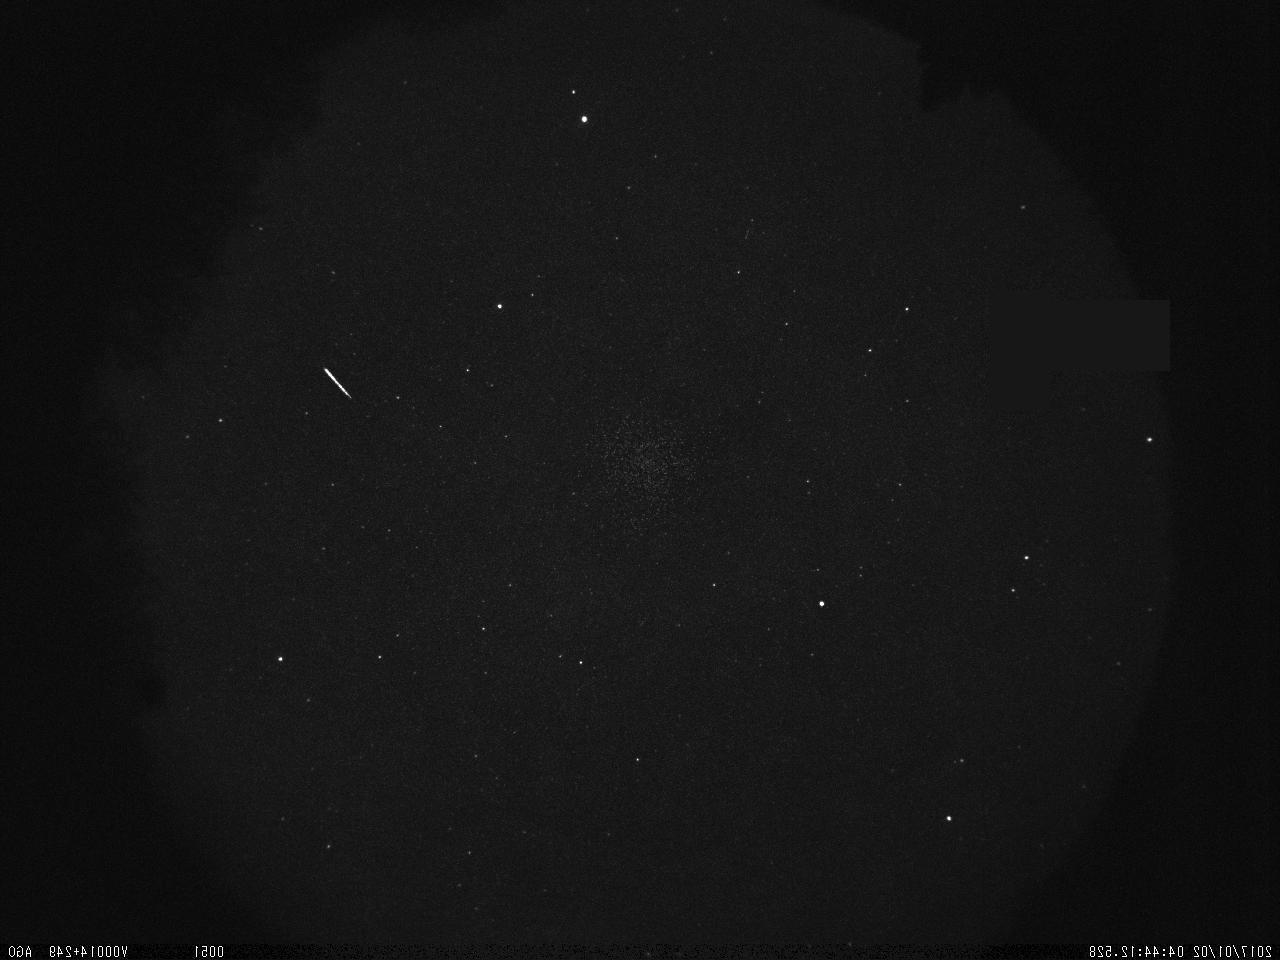meteor: (311, 349, 358, 434)
